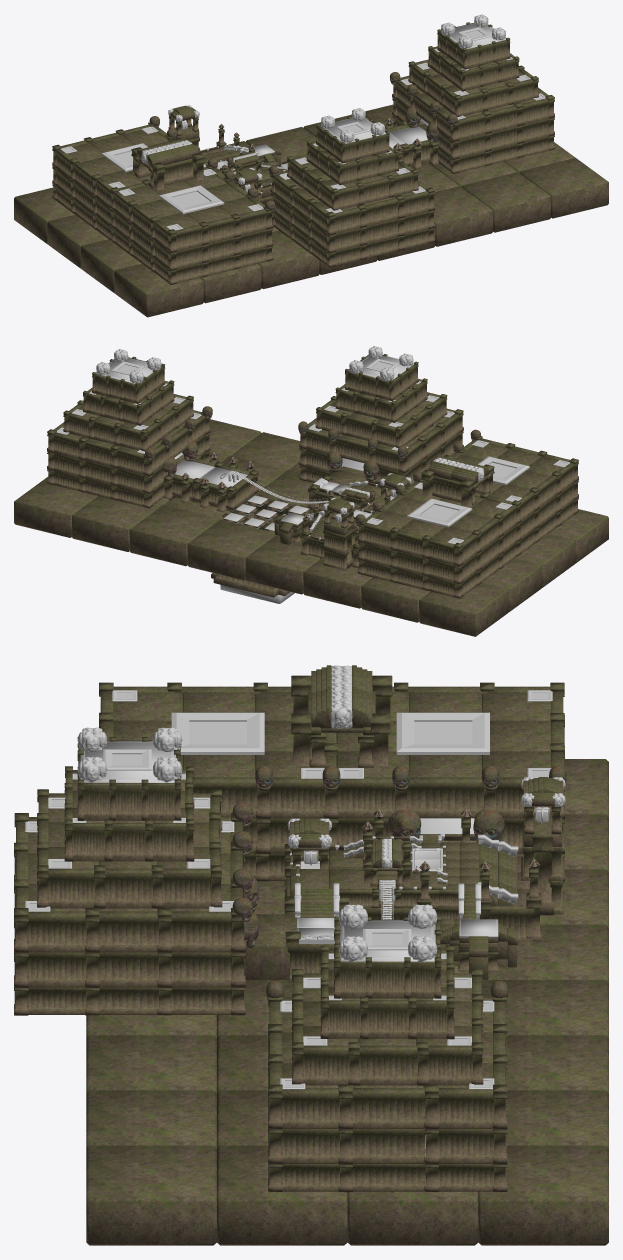
Rendered from aztec_temple.fbx.
The picture shows the model from 3 angles, top to bottom: view 1: azimuth 30°, elevation 25°; view 2: azimuth 150°, elevation 25°; view 3: azimuth 270°, elevation 25°; orthographic projection. The views are drawn at different scales.
Parts seen in each view (by area): view 1: Plane.191; view 2: Plane.191; view 3: Plane.191.
Boxes of the visible parts, x1=… form: Plane.191: x1=14, y1=14, x2=608, y2=317; Plane.191: x1=14, y1=346, x2=608, y2=636; Plane.191: x1=14, y1=665, x2=608, y2=1245.
Bounding box in the file's own units: 1554 × 592 × 884.
